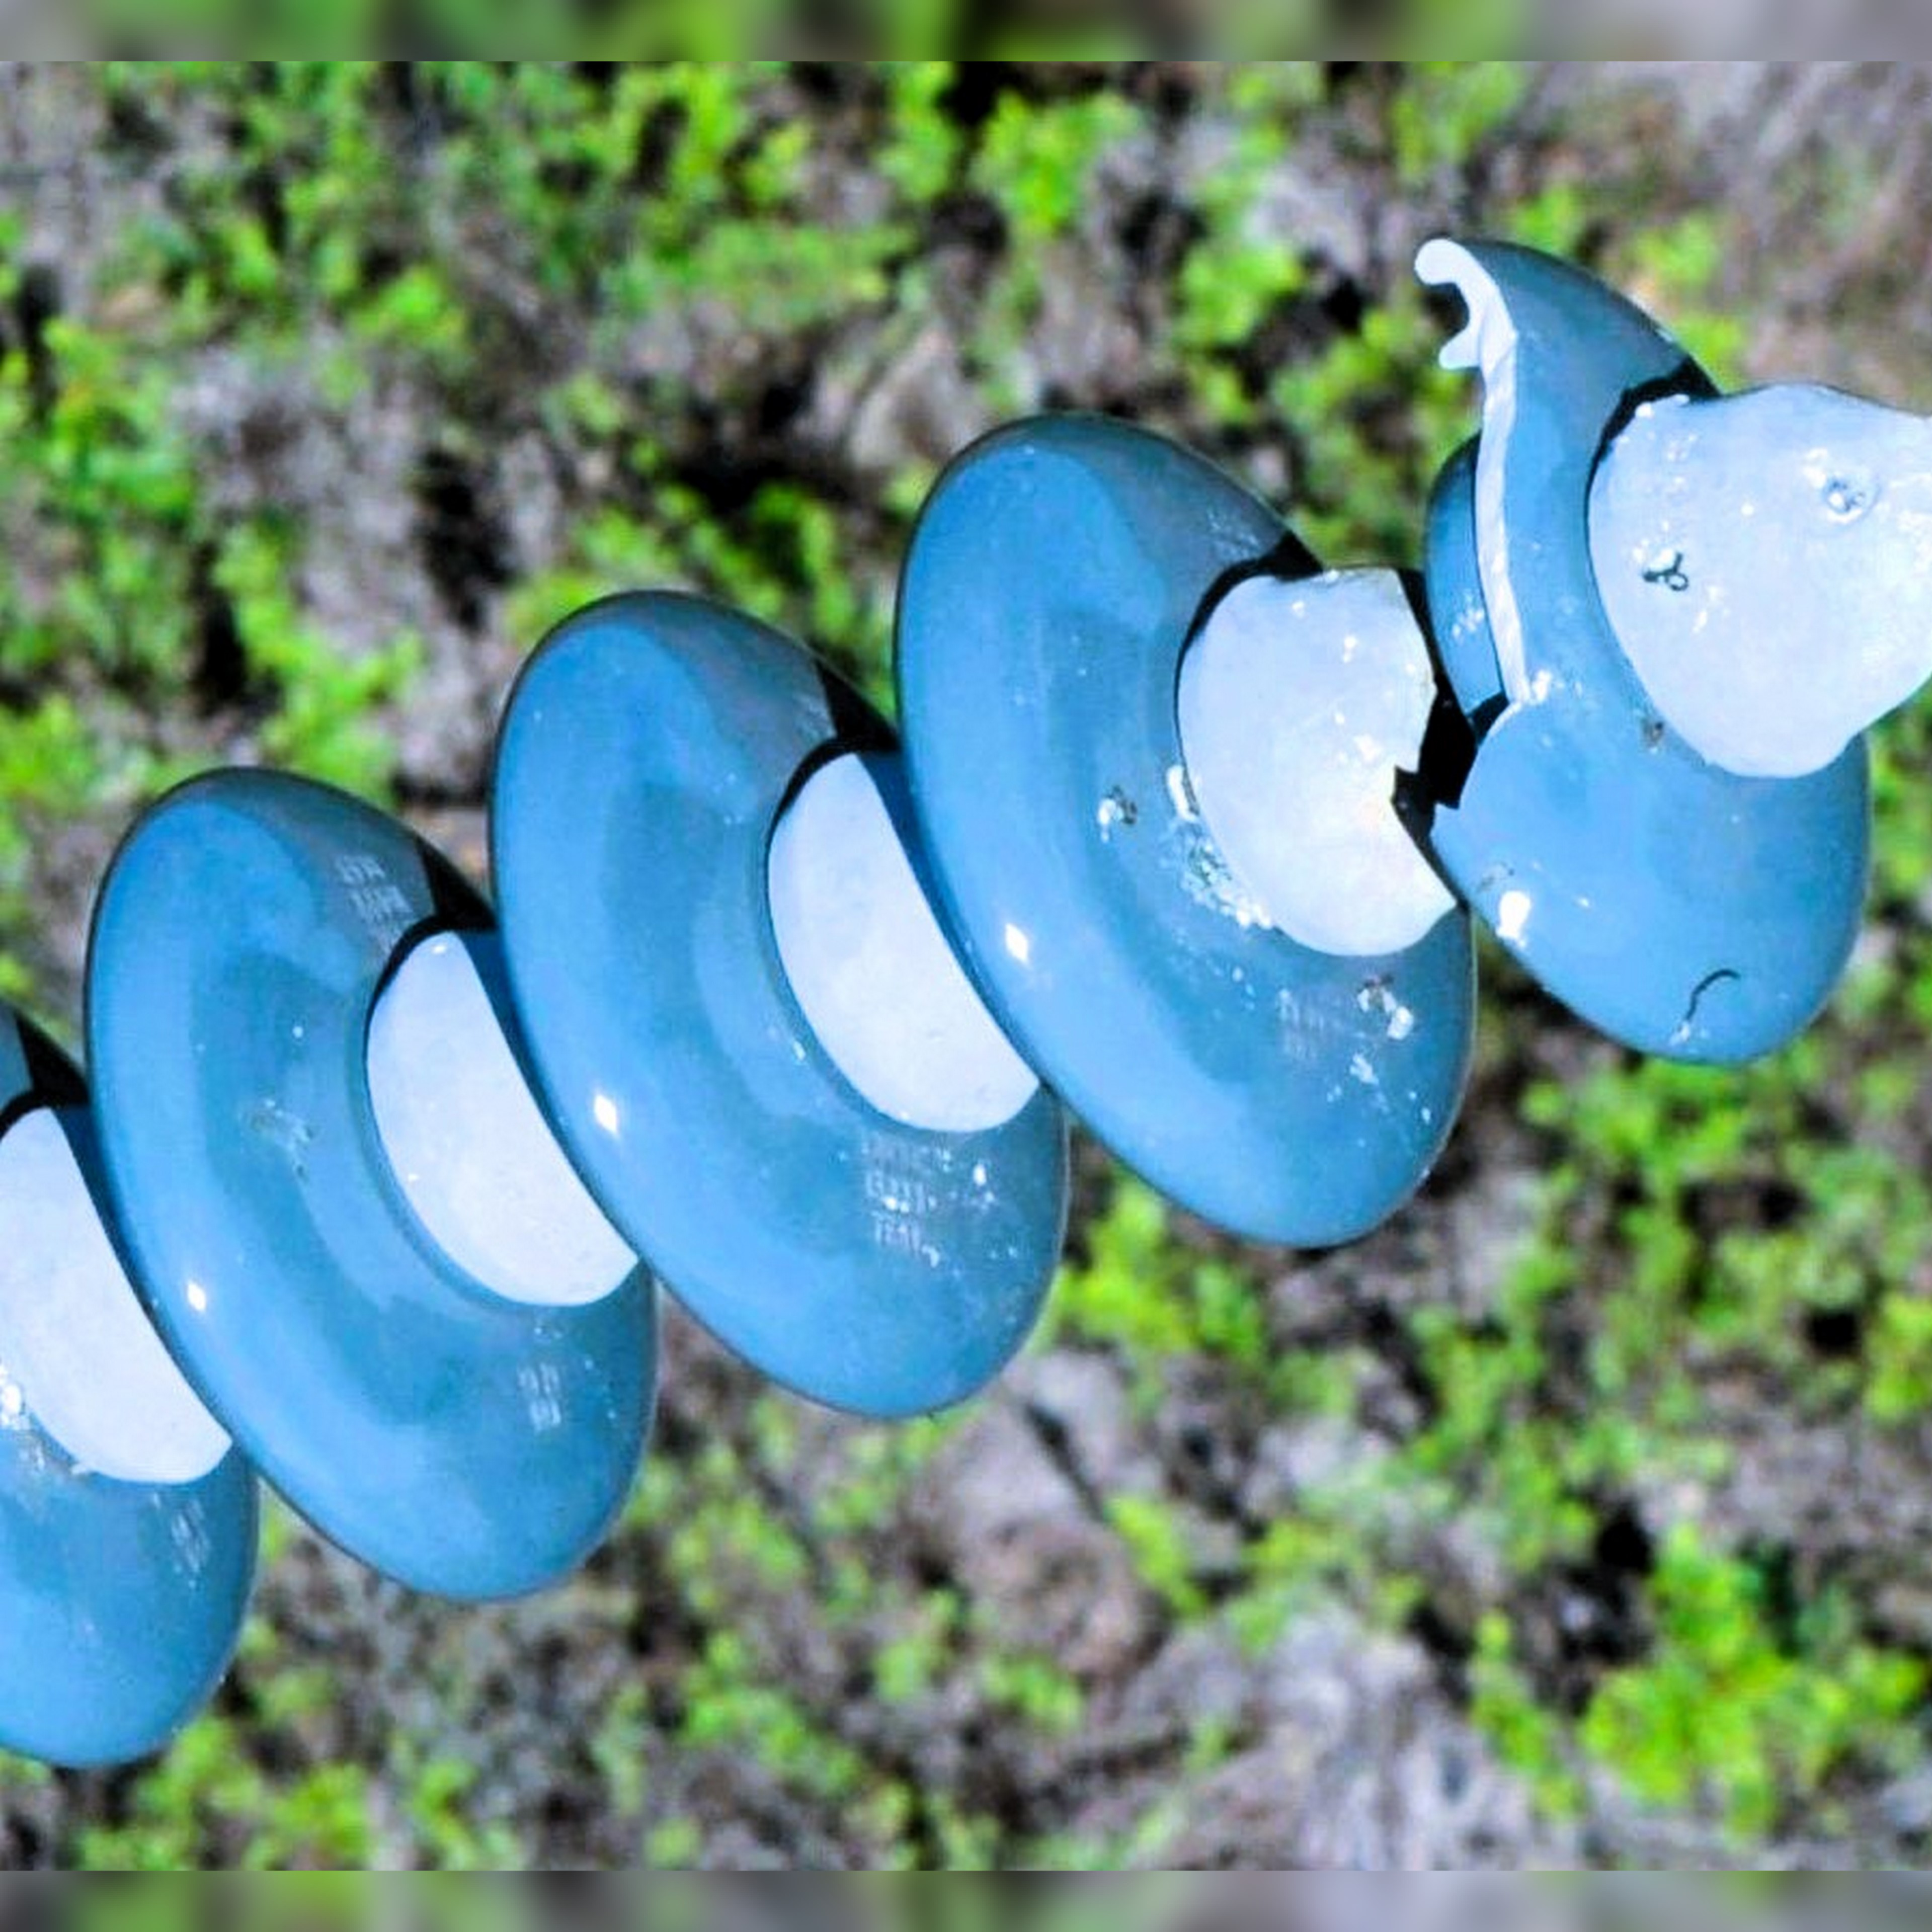insulator breakage: (1341, 211, 1893, 1070)
